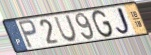2: (39, 18, 61, 45)
9: (74, 12, 96, 41)
G: (92, 9, 115, 39)
J: (115, 7, 133, 37)
P: (17, 18, 39, 49)
U: (53, 13, 78, 43)
